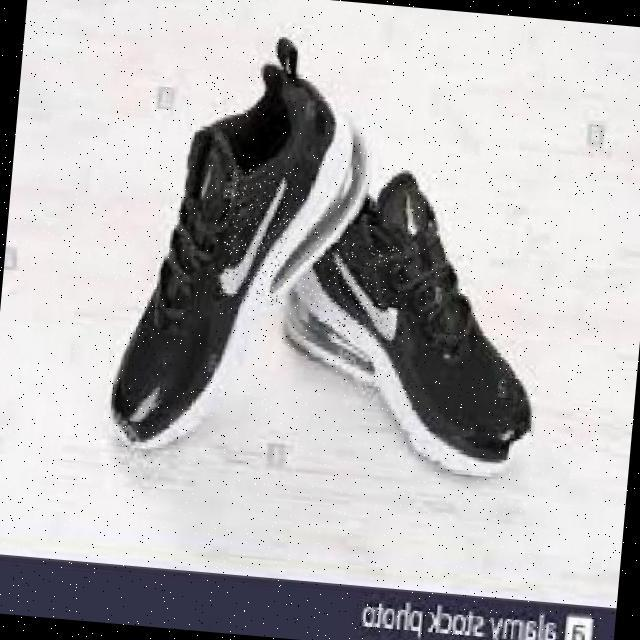Nike: (216, 165, 294, 307), (323, 241, 410, 342)
